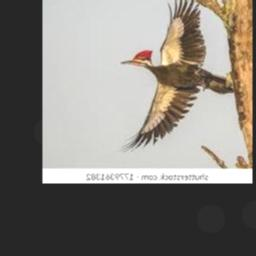Woodpecker: (117, 0, 235, 154)
